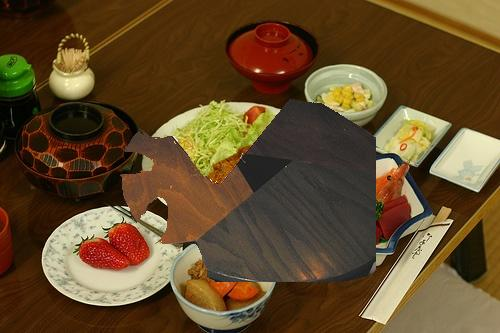tampered: (121, 100, 376, 282)
